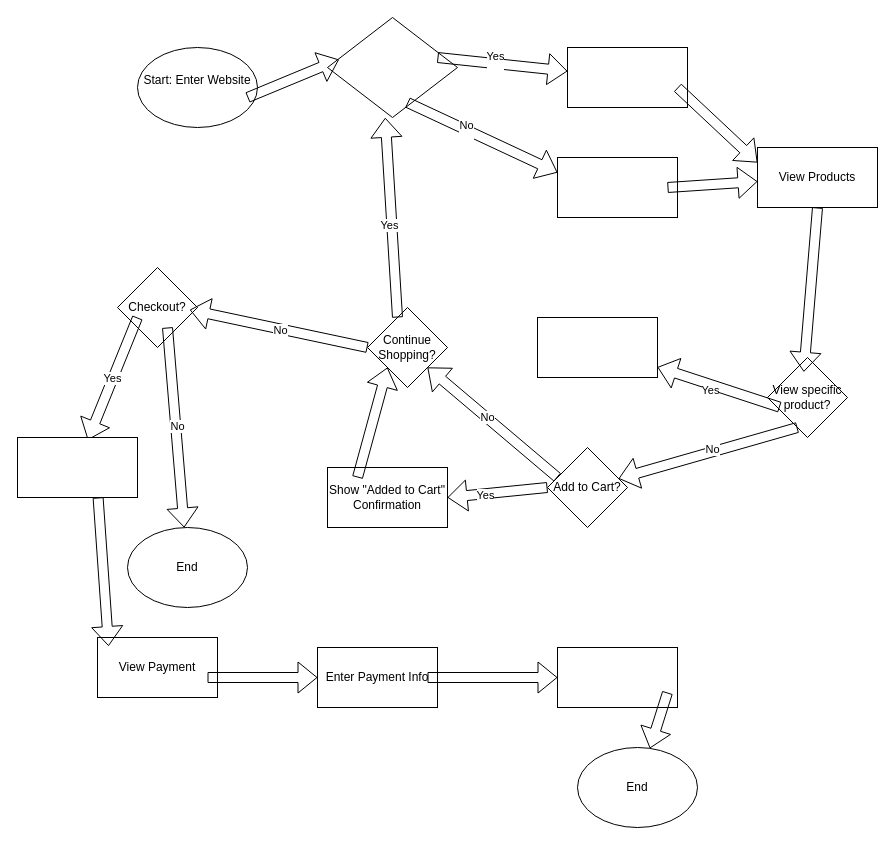
Image size: 895x845. Some labels were removed from this diagram. Here are the shapes that lost their labels. From the top down, the centre of each, then its label:
At point (392, 67): "Search for a product?".
At point (627, 77): "Input Search Term".
At point (617, 187): "Browse Home Page".
At point (597, 347): "Open Product Page".
At point (77, 467): "View Cart".
At point (617, 677): "Order Confirmation + Email Sent".
